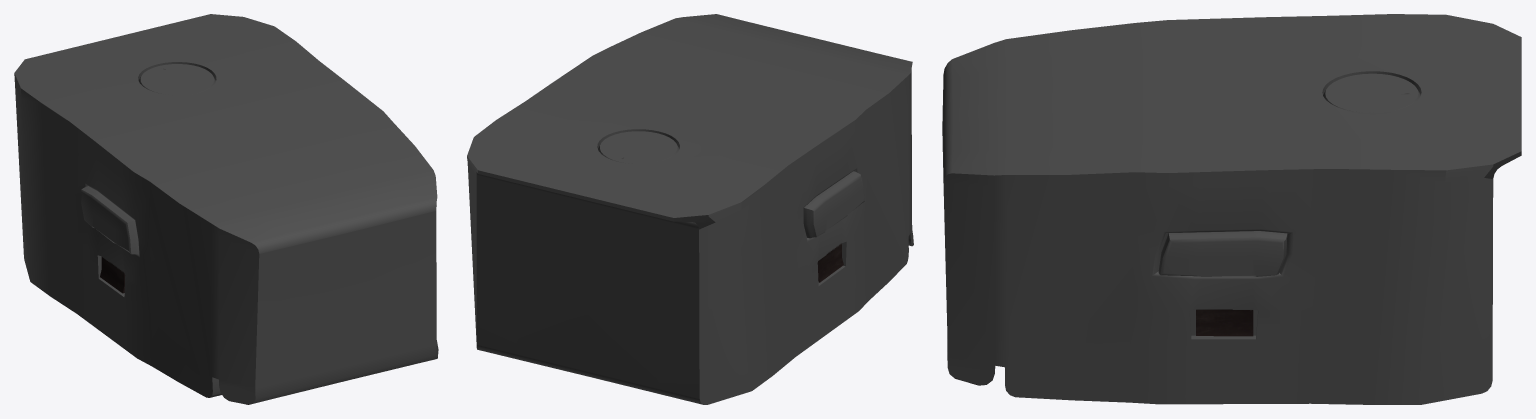
The model's file is DJIBattery.fbx.
The picture shows the model from 3 angles, left to right: view 1: azimuth 30°, elevation 25°; view 2: azimuth 150°, elevation 25°; view 3: azimuth 270°, elevation 25°; orthographic projection. The views are drawn at different scales.
Parts seen in each view (by area): view 1: BatteryBake; view 2: BatteryBake; view 3: BatteryBake.
Part boxes in pixels (box(x1,y1,x2,y2)): BatteryBake: box(14, 14, 438, 404); BatteryBake: box(467, 14, 913, 404); BatteryBake: box(942, 14, 1521, 404).
Size of the model in its own units: 7.34 by 5.03 by 11.17.
